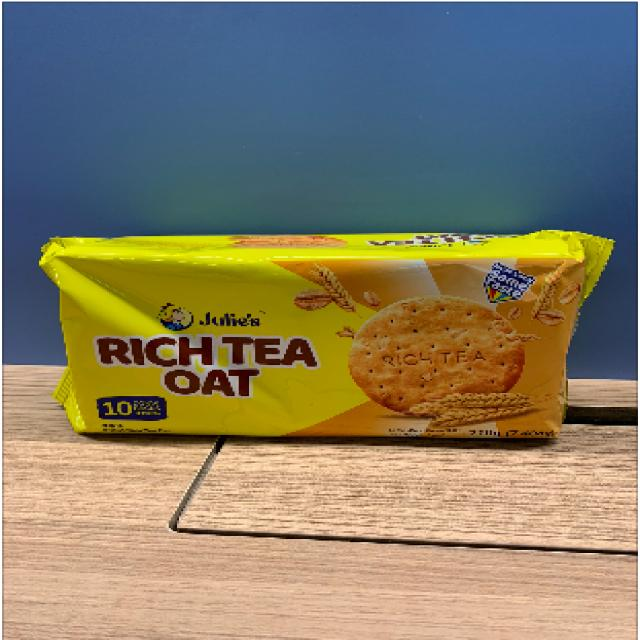object_name: (51, 233, 566, 445)
